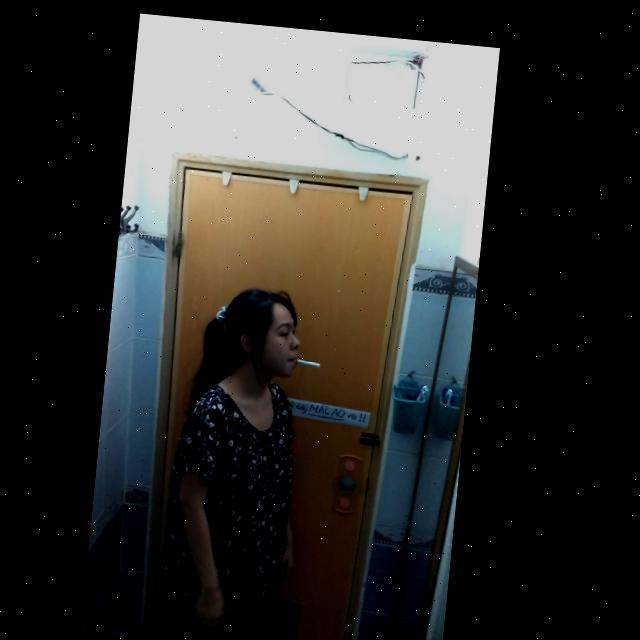cigarette: (300, 352, 328, 362)
